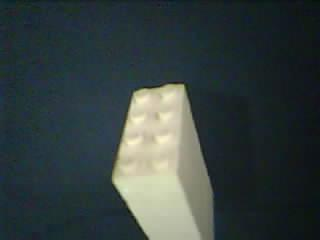lego: (109, 83, 213, 240)
